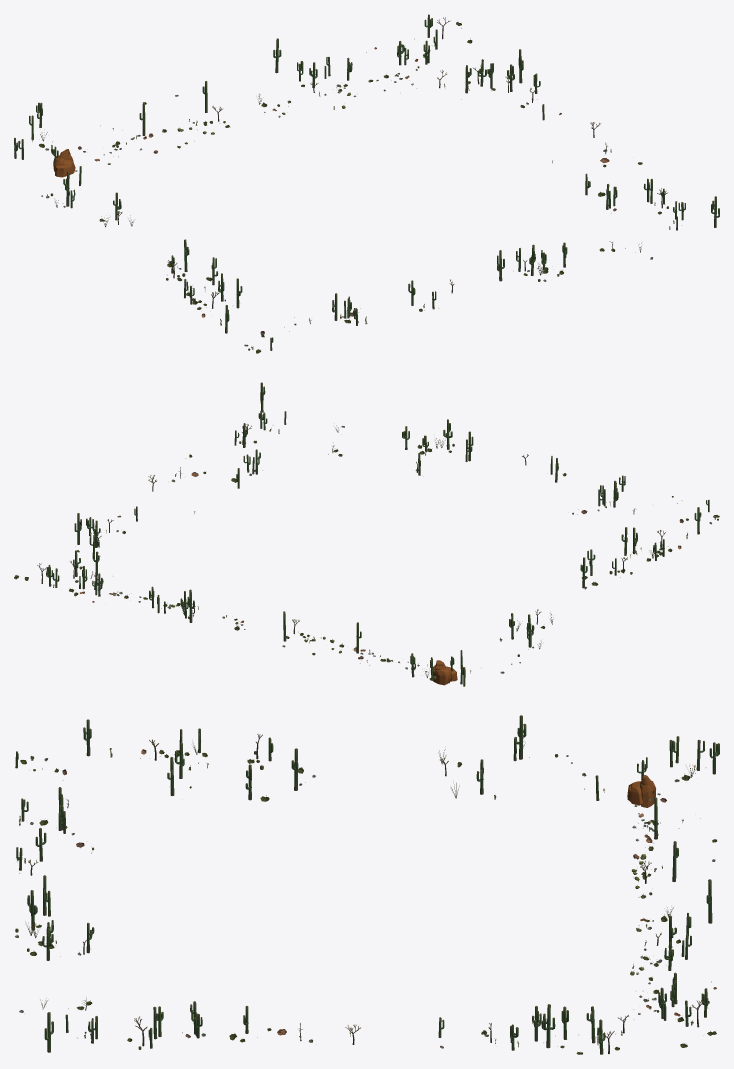
File: frontier-library.glb
The picture shows the model from 3 angles, top to bottom: view 1: azimuth 30°, elevation 25°; view 2: azimuth 150°, elevation 25°; view 3: azimuth 270°, elevation 25°; orthographic projection. The views are drawn at different scales.
Visible parts, largest first — view 1: flora-418, flora-430, flora-416, flora-427, flora-422, flora-417; view 2: flora-418, flora-430, flora-416, flora-422, flora-427; view 3: flora-418, flora-430, flora-416, flora-427, flora-422, flora-417, Rock_Large_2, flora-425, flora-419, flora-424, flora-428, flora-423.
Boxes of the visible parts, x1,y1,x2,y2 form: flora-418: [437, 49, 540, 108]; flora-430: [166, 255, 242, 325]; flora-416: [297, 41, 419, 96]; flora-427: [585, 162, 668, 214]; flora-422: [432, 244, 546, 309]; flora-417: [294, 280, 424, 325]; flora-418: [69, 513, 125, 589]; flora-430: [581, 527, 687, 579]; flora-416: [74, 573, 198, 619]; flora-422: [416, 419, 552, 475]; flora-427: [185, 423, 260, 488]; flora-418: [481, 1004, 628, 1054]; flora-430: [109, 728, 273, 801]; flora-416: [643, 913, 716, 1016]; flora-427: [127, 1001, 271, 1049]; flora-422: [15, 847, 94, 954]; flora-417: [16, 780, 93, 863]; Rock_Large_2: [627, 775, 655, 807]; flora-425: [640, 841, 715, 929]; flora-419: [658, 987, 716, 1047]; flora-424: [476, 715, 604, 800]; flora-428: [641, 742, 719, 850]; flora-423: [637, 736, 705, 782].
Bounding box in the file's own units: 191 × 22.67 × 187.
8 materials, 4 textured.
